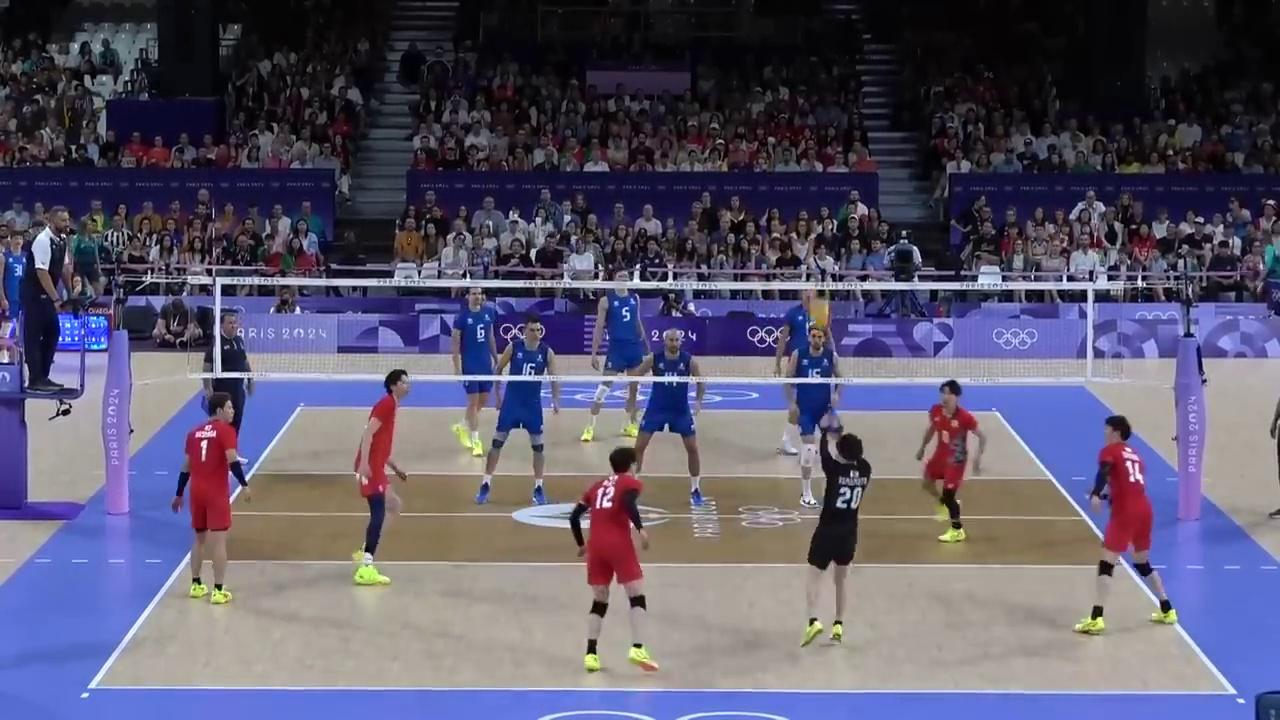ball: (809, 302, 827, 327)
